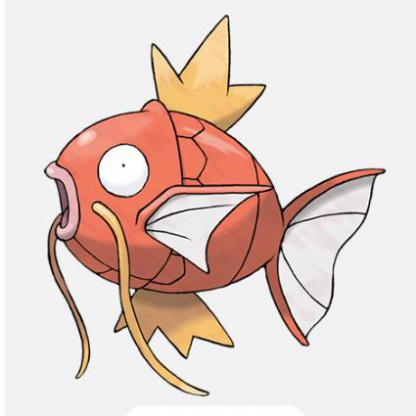Magikarp: (2, 2, 416, 416)
